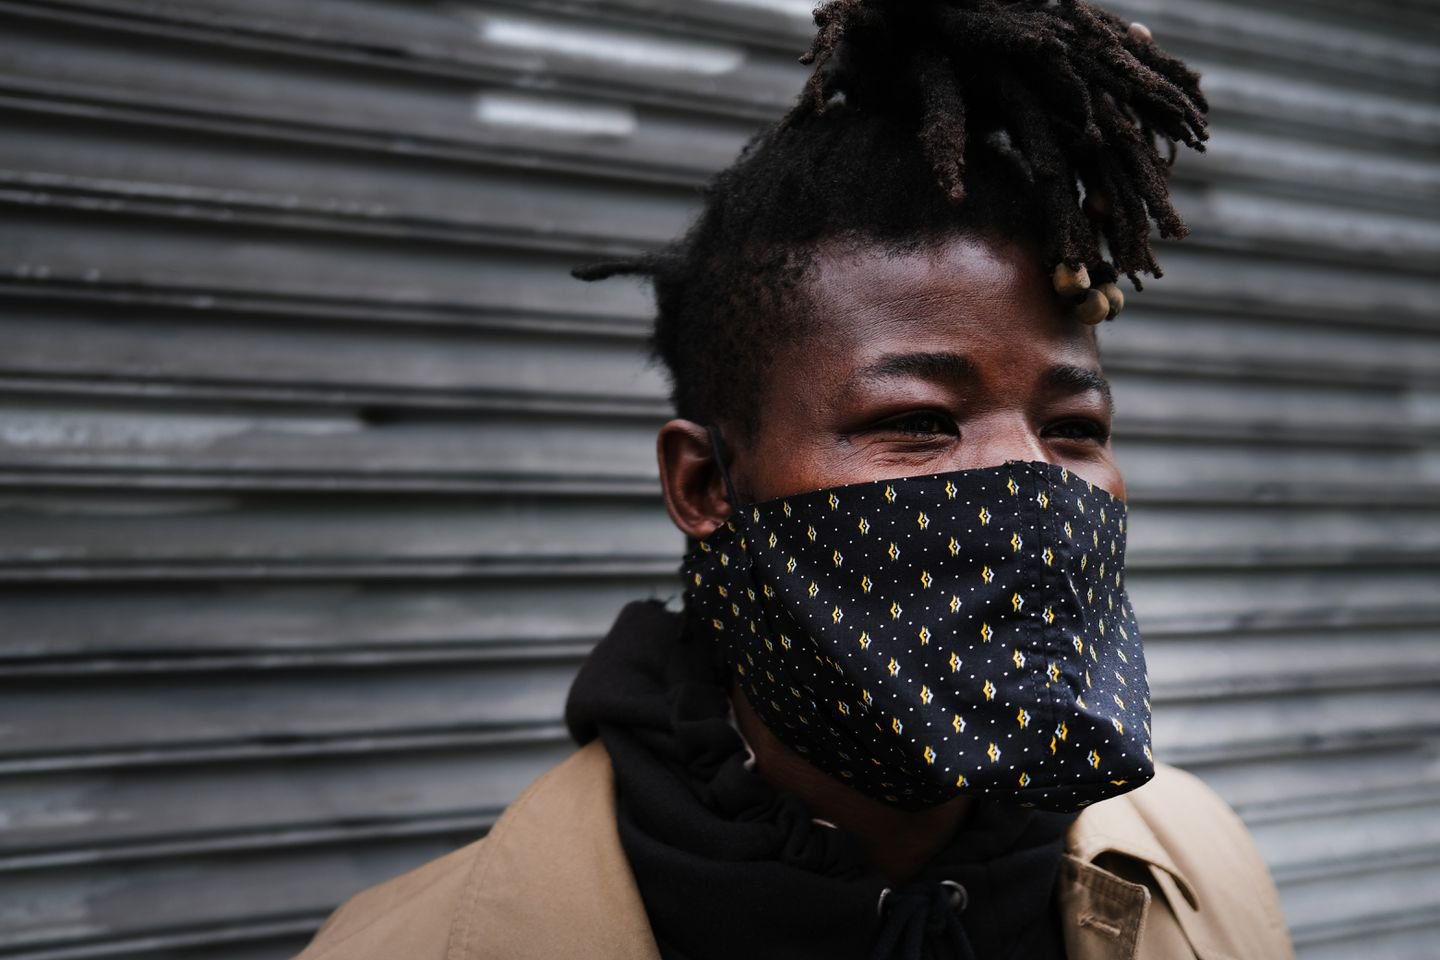mask: (629, 134, 1288, 817)
